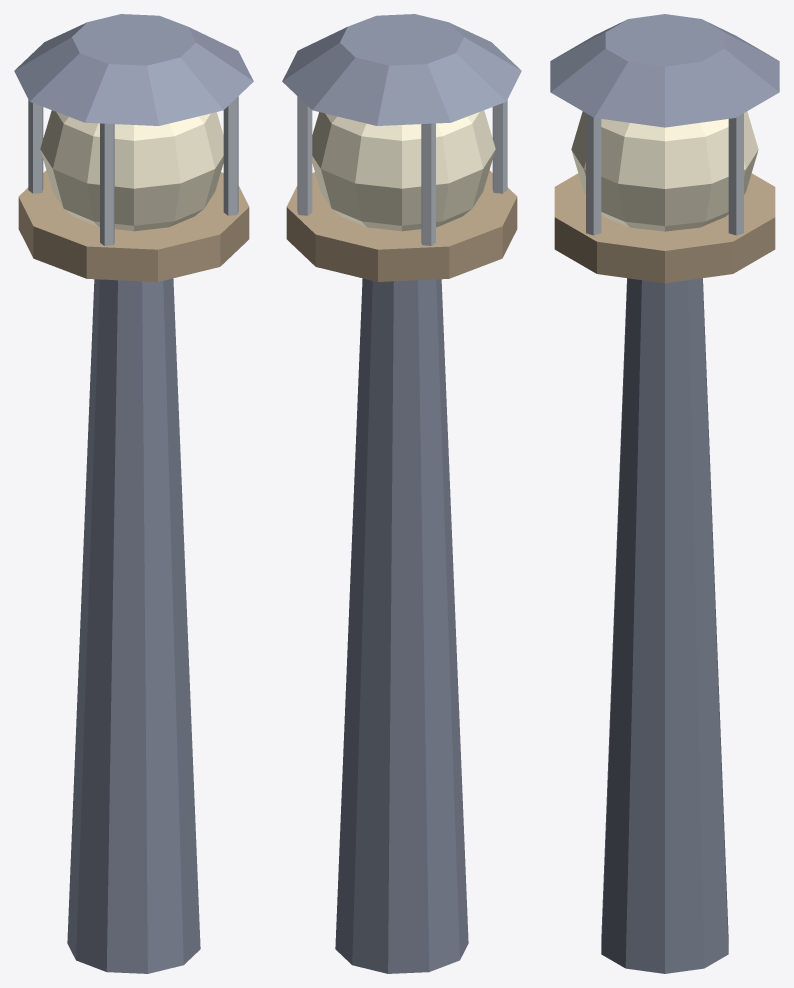
The model's file is farol.glb.
3 renders of one model, left to right at view 1: azimuth 30°, elevation 25°; view 2: azimuth 150°, elevation 25°; view 3: azimuth 270°, elevation 25°, orthographic.
Parts seen in each view (by area): view 1: farol; view 2: farol; view 3: farol.
Boxes of the visible parts, left/top/right/bottom form: farol: left=14, top=14, right=253, bottom=973; farol: left=282, top=14, right=521, bottom=973; farol: left=550, top=14, right=779, bottom=973.
Size of the model in its own units: 0.54 by 2.24 by 0.5136.
